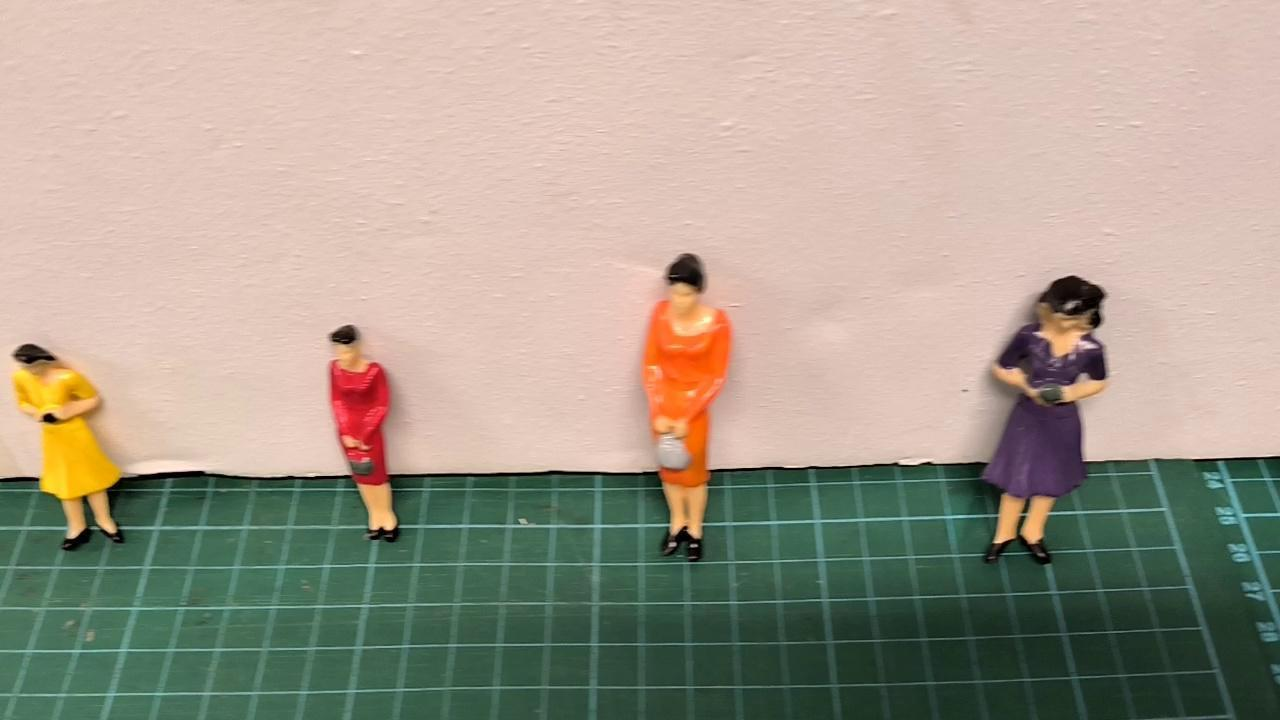human: (969, 271, 1114, 566), (637, 248, 740, 566), (12, 342, 128, 556), (328, 322, 402, 545)
